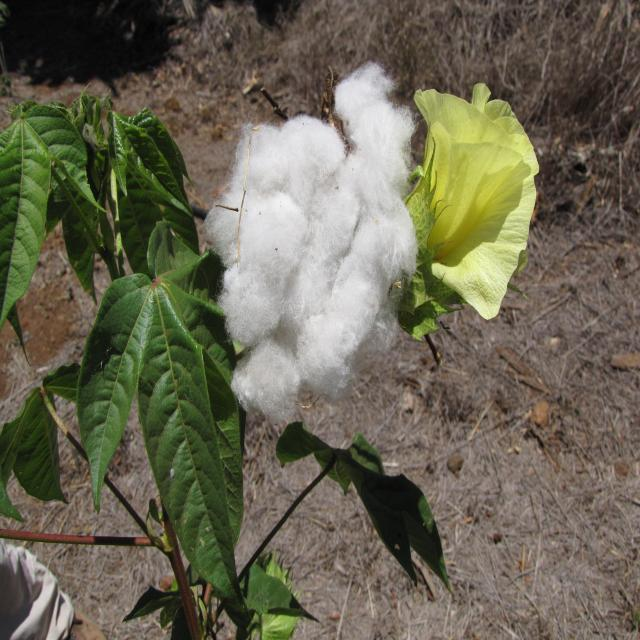Late_blight: (189, 43, 427, 433)
